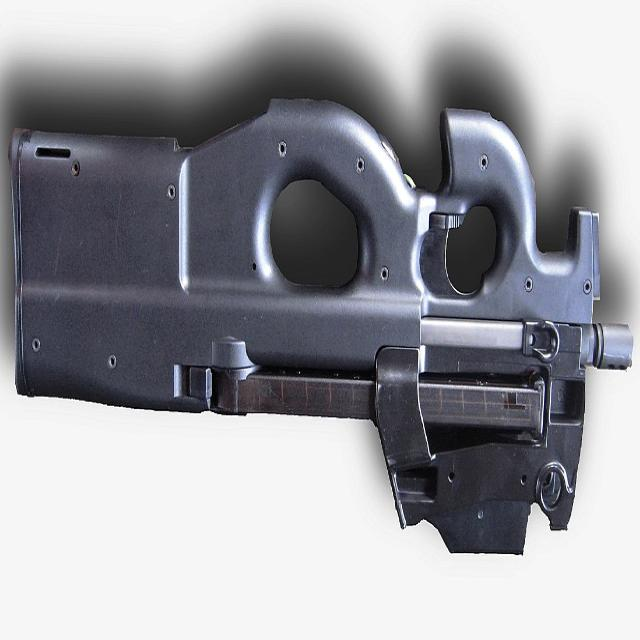Gun: (0, 70, 639, 507)
